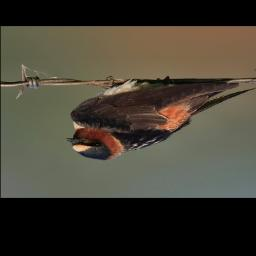Swallow: (65, 76, 256, 162)
